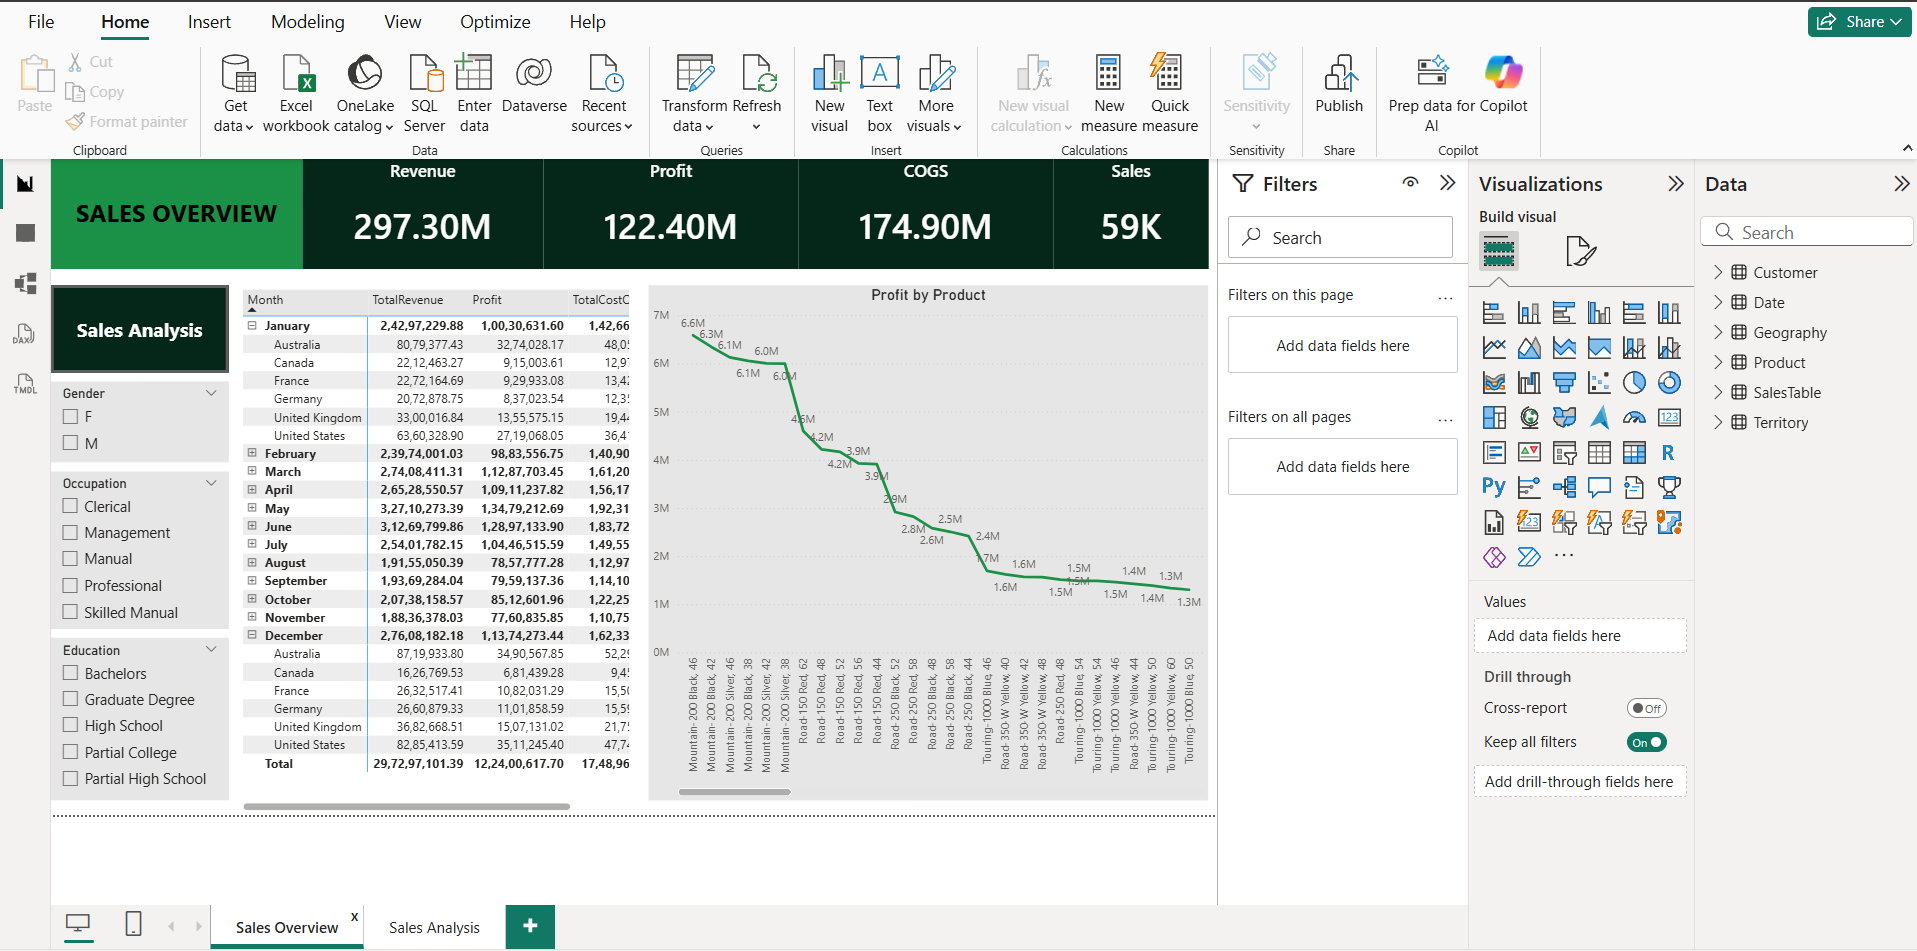

The dashboard page shown, as its layout file describes it:
{"tool":"powerbi","page":{"name":"Sales Overview","canvas":[1280,720],"ordinal":0},"visuals":[{"type":"card","title":"Revenue","fields":{"Values":["SalesTable.TotalRevenue"]},"box":[275.8,0,264.8,120.8],"z":0},{"type":"card","title":"COGS","fields":{"Values":["SalesTable.TotalCostOfGoods"]},"box":[820.6,0,279.9,120.8],"z":1000},{"type":"card","title":"Profit","fields":{"Values":["SalesTable.Profit"]},"box":[540.7,0,279.9,120.8],"z":2000},{"type":"card","title":"Sales","fields":{"Values":["SalesTable.TotalSales"]},"box":[1100.5,0,170.2,120.8],"z":3000},{"type":"pivotTable","fields":{"Rows":["SalesTable.DueDate.Variation.Date Hierarchy.Month","Geography.Country"],"Values":["SalesTable.TotalRevenue","SalesTable.Profit","SalesTable.TotalCostOfGoods"]},"box":[205.8,138.6,433.6,581.8],"z":4000},{"type":"lineChart","title":"Profit by Product","fields":{"Y":["SalesTable.Profit"],"Category":["Product.Products"]},"box":[655.9,138.6,614.8,565.4],"z":5000},{"type":"textbox","box":[0,0,275.8,120.8],"z":6000},{"type":"slicer","fields":{"Values":["Customer.Gender"]},"box":[0,244.3,194.9,89.2],"z":7000},{"type":"slicer","fields":{"Values":["Customer.Occupation"]},"box":[0,343.1,194.9,172.9],"z":8000},{"type":"slicer","fields":{"Values":["Customer.Education"]},"box":[0,525.6,194.9,178.4],"z":9000},{"type":"actionButton","box":[0,138.6,194.9,96.1],"z":9001}]}

Visuals, with their boxes on the page's 1280x720 design canvas (x1, y1, x2, y2). These are canvas units, not pixel positions in the 1917x951 screenshot, which may show the page scaled, cropped or inside an application window:
"Revenue" card: [left=276, top=0, right=541, bottom=121]
"COGS" card: [left=821, top=0, right=1100, bottom=121]
"Profit" card: [left=541, top=0, right=821, bottom=121]
"Sales" card: [left=1100, top=0, right=1271, bottom=121]
pivotTable - SalesTable.DueDate.Variation.Date Hierarchy.Month x Geography.Country: [left=206, top=139, right=639, bottom=720]
"Profit by Product" lineChart: [left=656, top=139, right=1271, bottom=704]
textbox: [left=0, top=0, right=276, bottom=121]
slicer - Customer.Gender: [left=0, top=244, right=195, bottom=334]
slicer - Customer.Occupation: [left=0, top=343, right=195, bottom=516]
slicer - Customer.Education: [left=0, top=526, right=195, bottom=704]
actionButton: [left=0, top=139, right=195, bottom=235]
